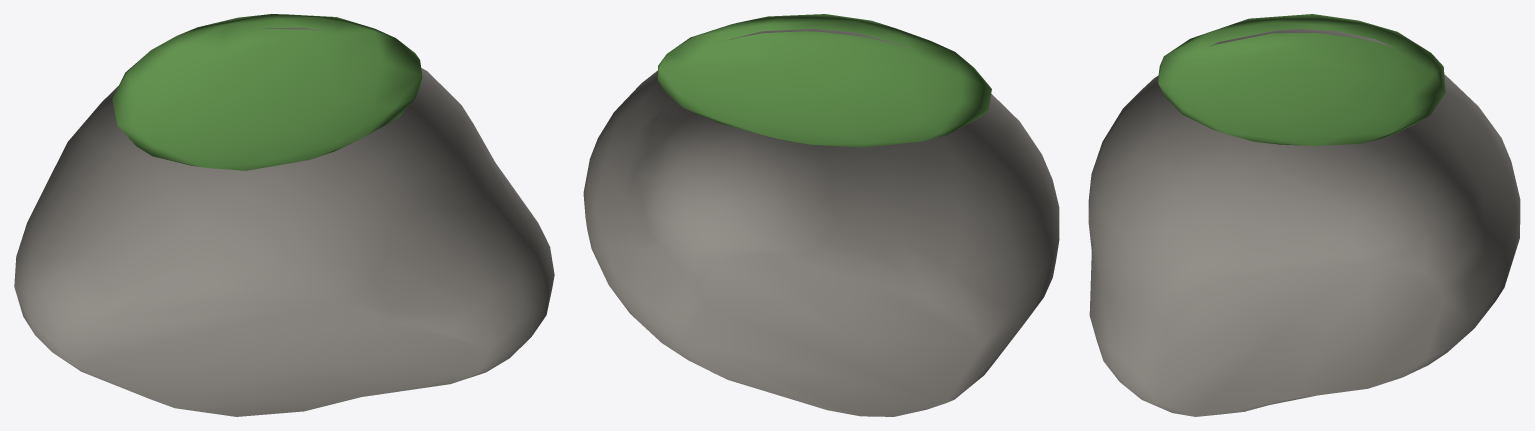
Rendered from lm_rock.glb.
3 renders of one model, left to right at view 1: azimuth 30°, elevation 25°; view 2: azimuth 150°, elevation 25°; view 3: azimuth 270°, elevation 25°, orthographic. The views are drawn at different scales.
Parts seen in each view (by area): view 1: body; view 2: body; view 3: body.
Boxes of the visible parts, box(x1,y1,x2,y2) form: body: box(14, 14, 554, 416); body: box(583, 14, 1059, 416); body: box(1088, 14, 1520, 416).
Bounding box in the file's own units: 1.94 × 1.31 × 1.72.
1 material, 1 textured.
